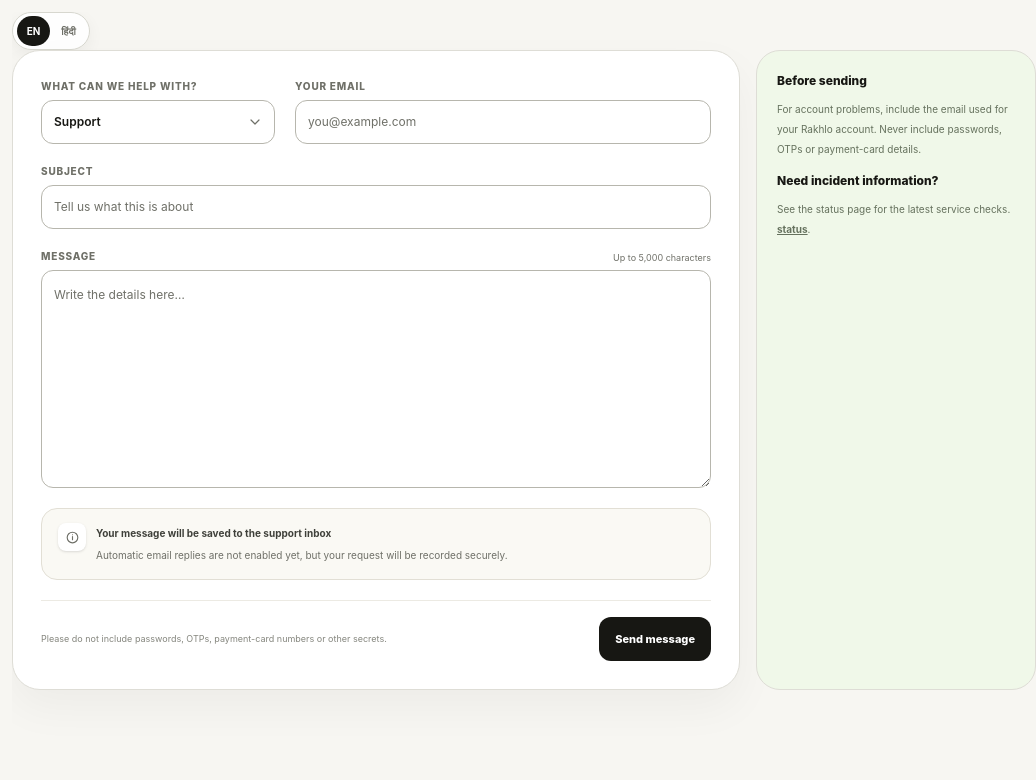
it: public page localization › switches support content from English to Hindi
The width and height of the screenshot is (1036, 780).
Check: the heading "Before sending" is shown, box [777,73,867,88]
Click the button "EN हिंदी". click: (51, 31)
box: [12,12,90,50]
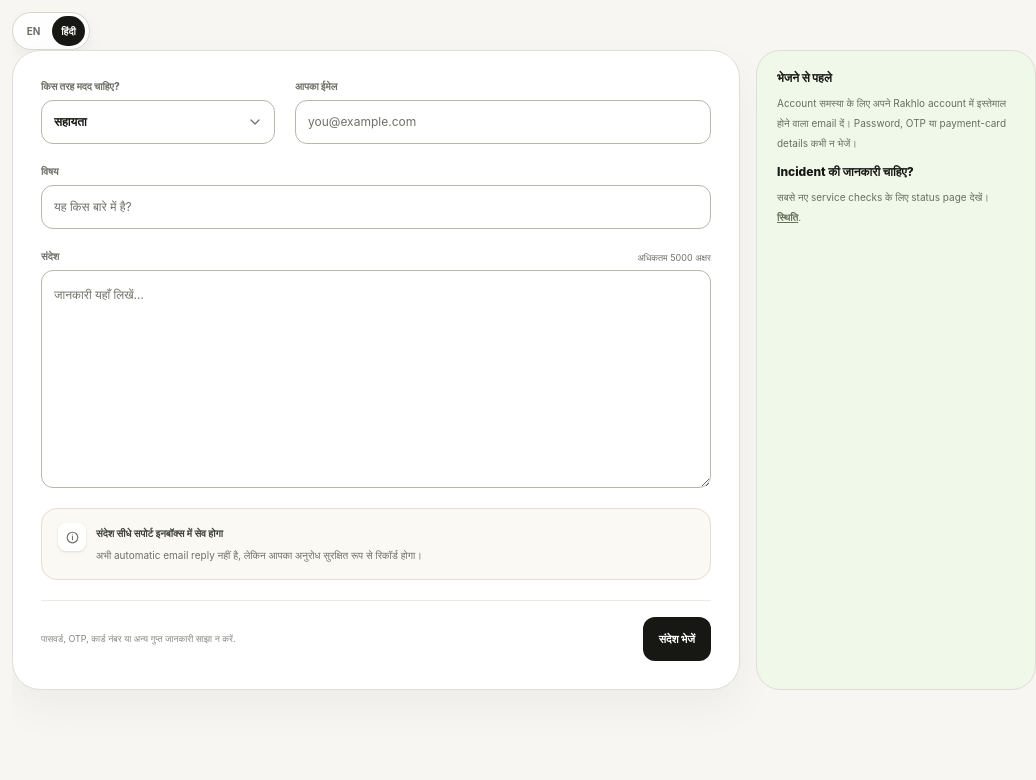
Check: the heading "भेजने से पहले" is shown, box [777,70,832,85]
